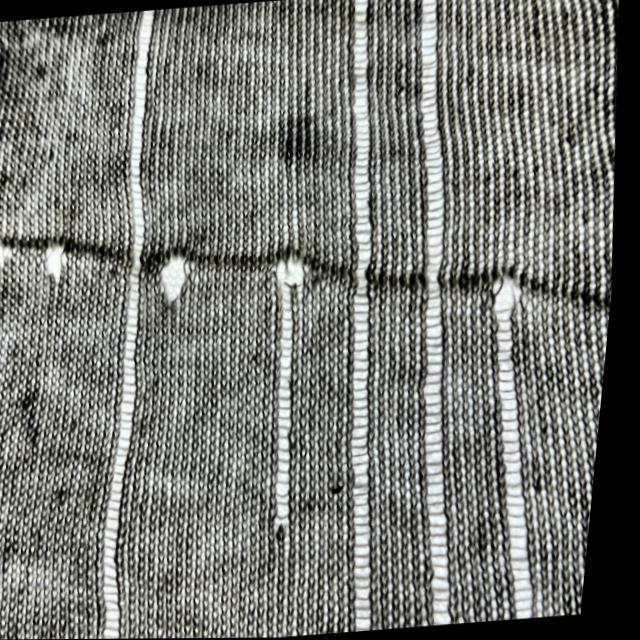Hole: (157, 245, 209, 312), (42, 236, 78, 291), (0, 235, 24, 274)
Stitch: (359, 0, 515, 629), (297, 0, 438, 634), (62, 9, 203, 639), (466, 264, 580, 623), (243, 250, 337, 535), (0, 21, 41, 640), (573, 0, 632, 188)
